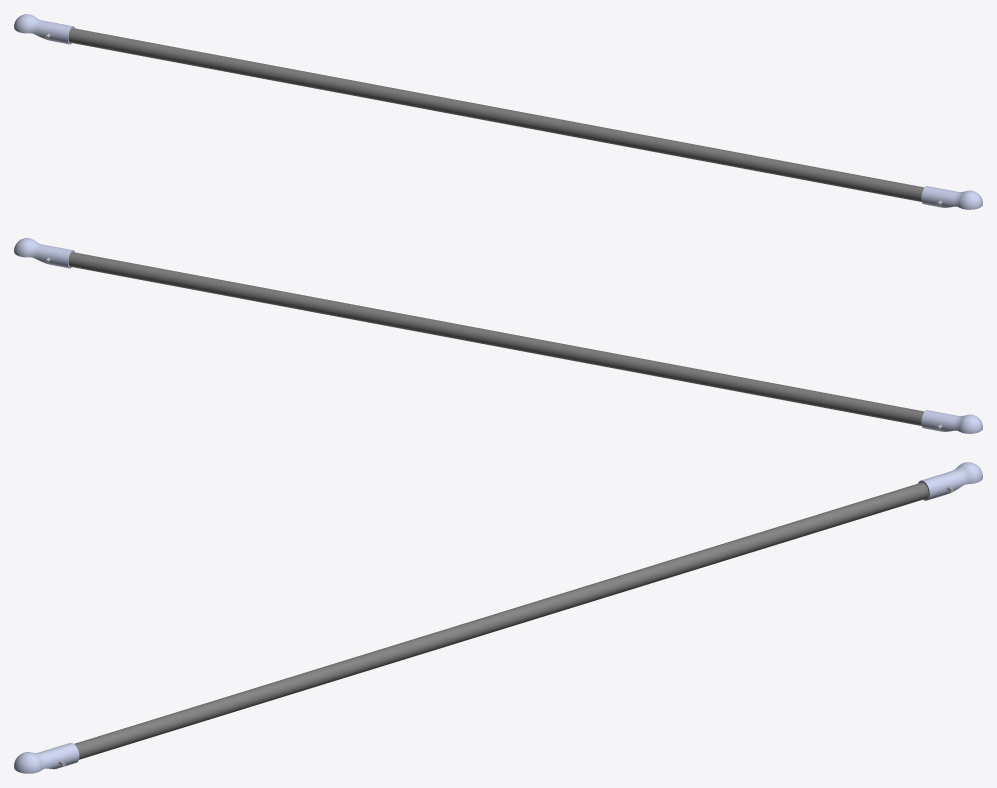
3 renders of one model, top to bottom at view 1: azimuth 30°, elevation 25°; view 2: azimuth 210°, elevation 25°; view 3: azimuth 270°, elevation 25°, orthographic. The views are drawn at different scales.
Visible parts, largest first — view 1: IRB360_6-1600-STD-4D_rev03_LA1_2_CAD.step1; view 2: IRB360_6-1600-STD-4D_rev03_LA1_2_CAD.step1; view 3: IRB360_6-1600-STD-4D_rev03_LA1_2_CAD.step1.
Boxes of the visible parts, left/top/right/bottom form: IRB360_6-1600-STD-4D_rev03_LA1_2_CAD.step1: left=14, top=14, right=982, bottom=209; IRB360_6-1600-STD-4D_rev03_LA1_2_CAD.step1: left=14, top=238, right=982, bottom=433; IRB360_6-1600-STD-4D_rev03_LA1_2_CAD.step1: left=14, top=462, right=982, bottom=773.
Size of the model in its own units: 0.6798 by 0.0239 by 0.9214.
